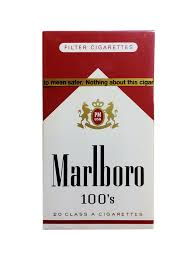marlboro: (43, 31, 153, 229)
